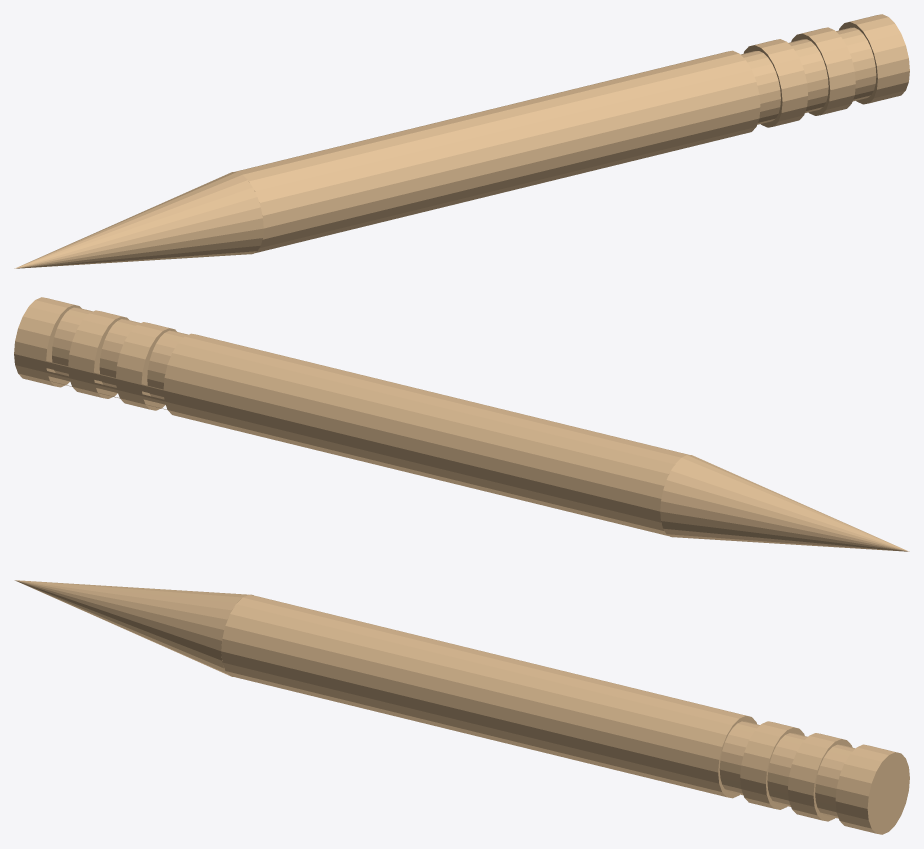
File: tinker.obj
The picture shows the model from 3 angles, top to bottom: view 1: azimuth 30°, elevation 25°; view 2: azimuth 150°, elevation 25°; view 3: azimuth 330°, elevation 25°; orthographic projection.
Parts seen in each view (by area): view 1: obj_0; view 2: obj_0; view 3: obj_0.
Part boxes in pixels (x1,y1,x2,y2): obj_0: [14, 14, 909, 268]; obj_0: [14, 297, 909, 551]; obj_0: [14, 580, 909, 834].
Size of the model in its own units: 119 by 10 by 10.
